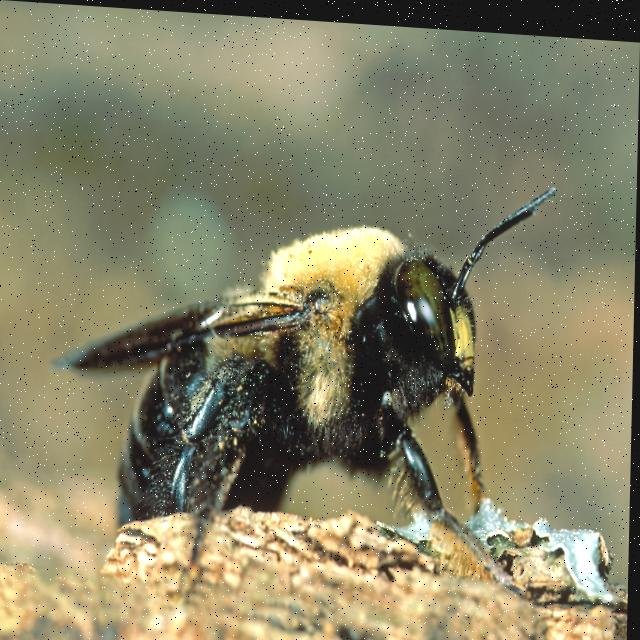Xylocopa: (52, 141, 573, 606)
